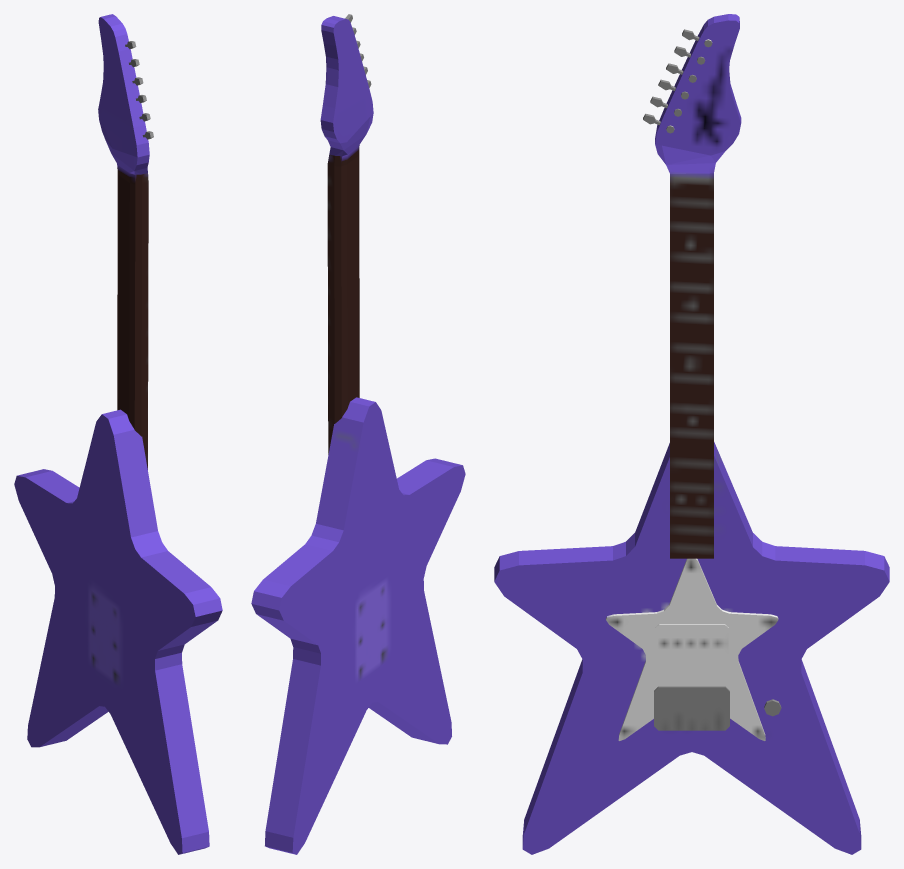
Rendered from PROP_107_Guitar.fbx.
3 views of the same model, side by side, from view 1: azimuth 30°, elevation 25°; view 2: azimuth 150°, elevation 25°; view 3: azimuth 270°, elevation 25° (orthographic). The views are drawn at different scales.
Parts seen in each view (by area): view 1: Cylinder_001; view 2: Cylinder_001; view 3: Cylinder_001.
Part boxes in pixels (x1,y1,x2,y2): Cylinder_001: (14,14,222,854); Cylinder_001: (251,14,465,854); Cylinder_001: (494,14,889,854).
Size of the model in its own units: 0.041 by 0.8929 by 0.3833.
1 material, 1 textured.
